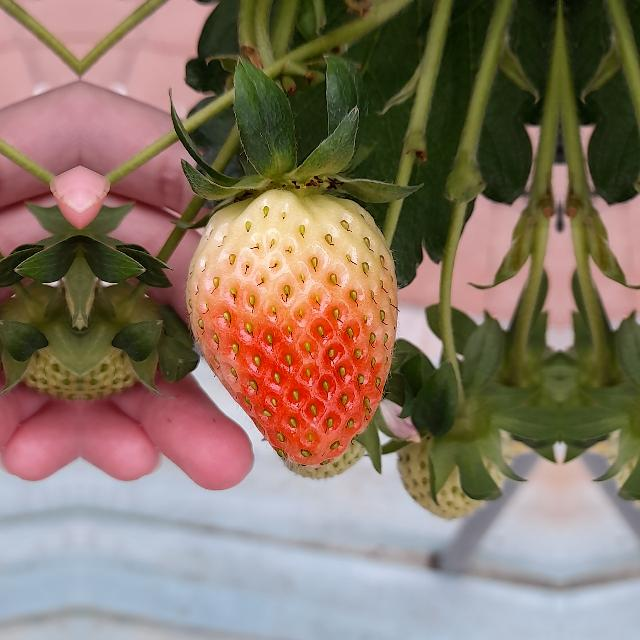Health_25: (404, 402, 504, 528), (616, 401, 640, 528)
Health_75: (186, 189, 398, 467)
